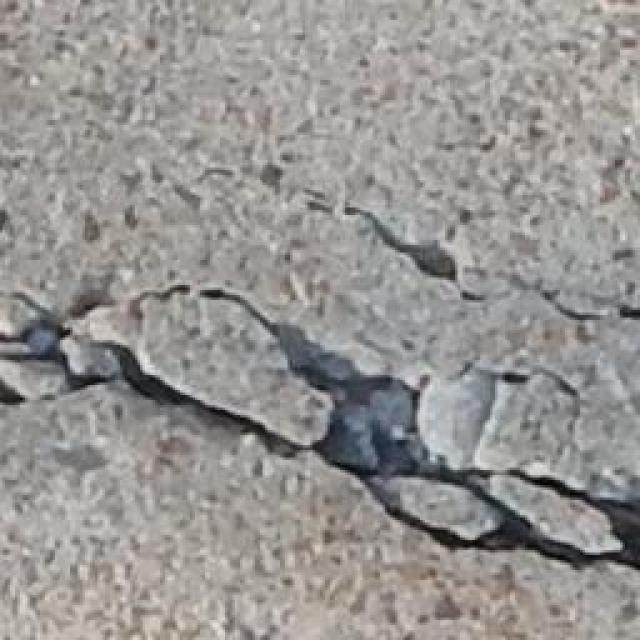concrete-crack: (0, 274, 640, 581), (278, 192, 640, 329)
